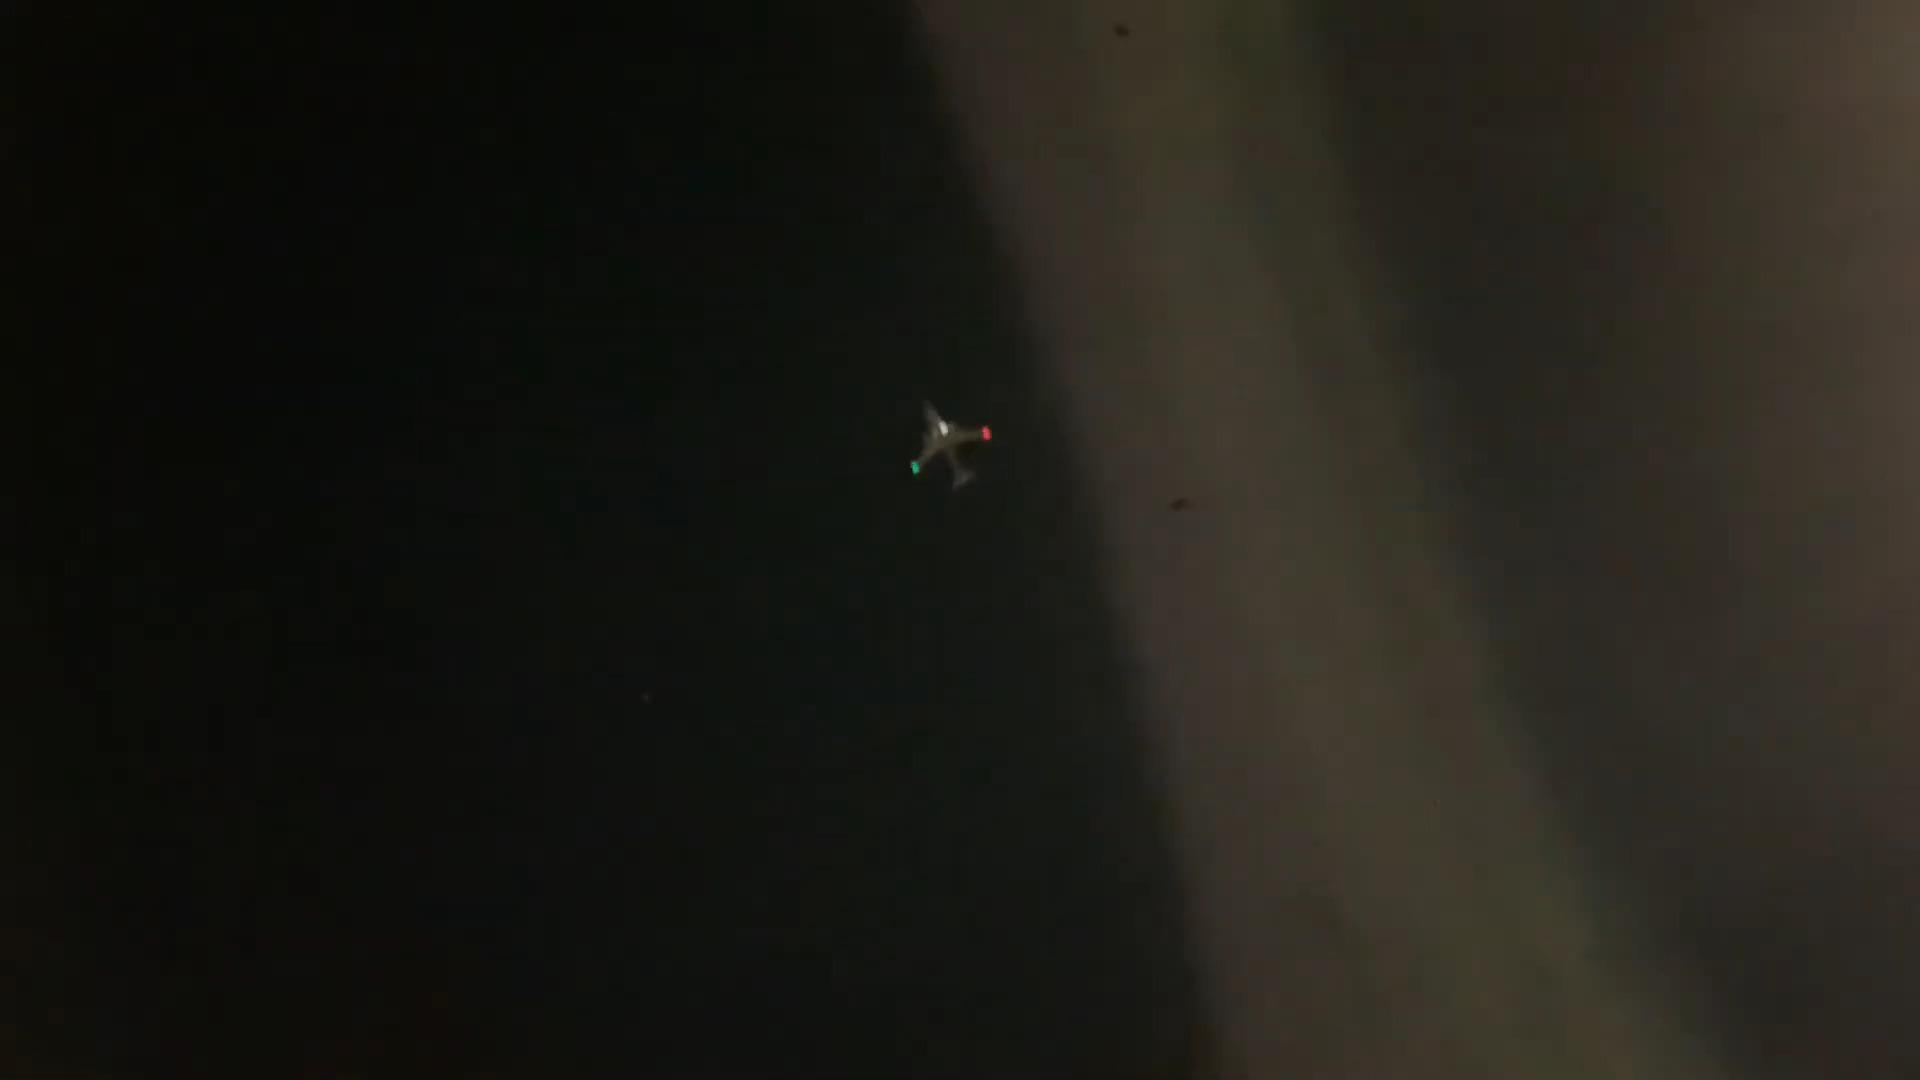Plane: (835, 372, 1068, 522)
